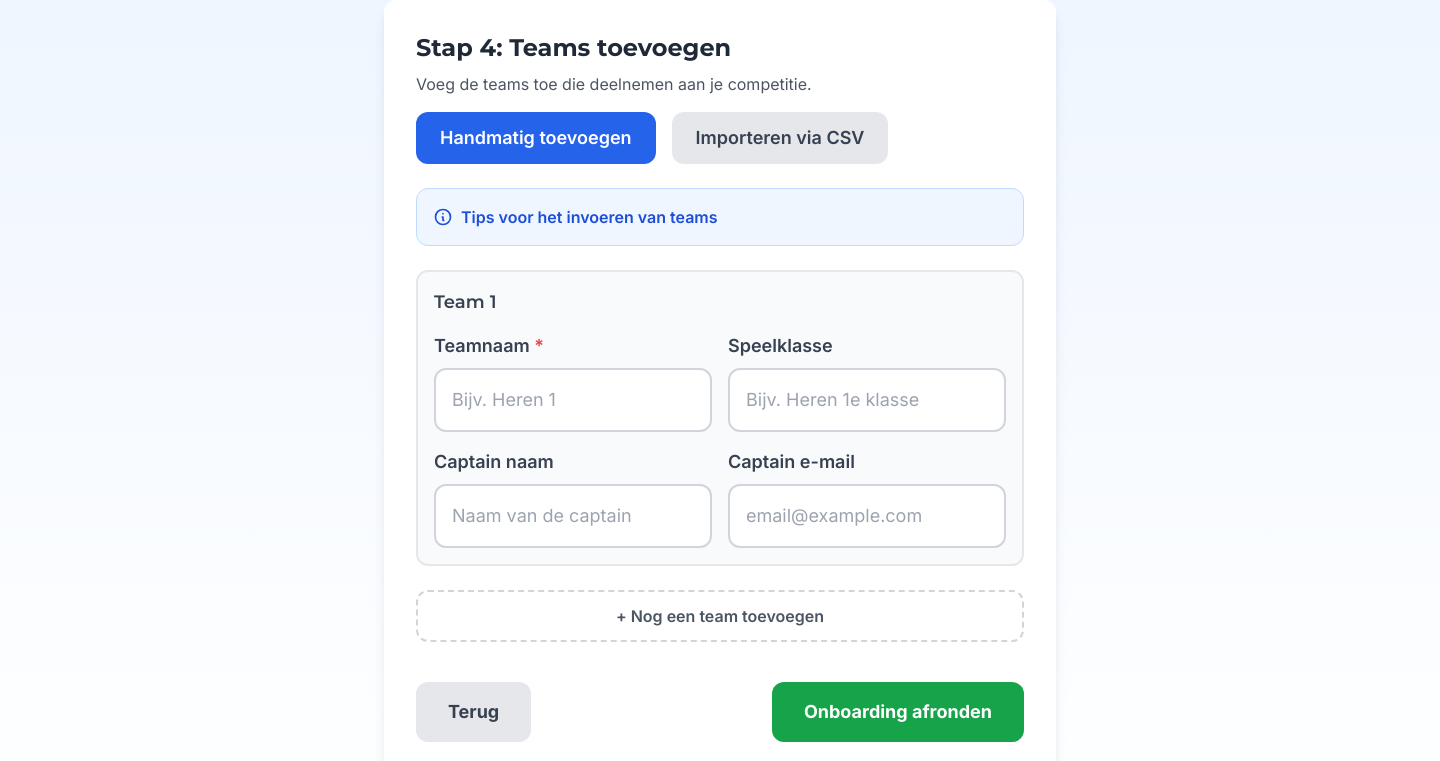
Test case: TeamsStep › Submit teams › should show generic error on unknown save failure
Type "Heren 1" into the field labelled "Teamnaam *" at [573, 400], box [434,368,712,432]
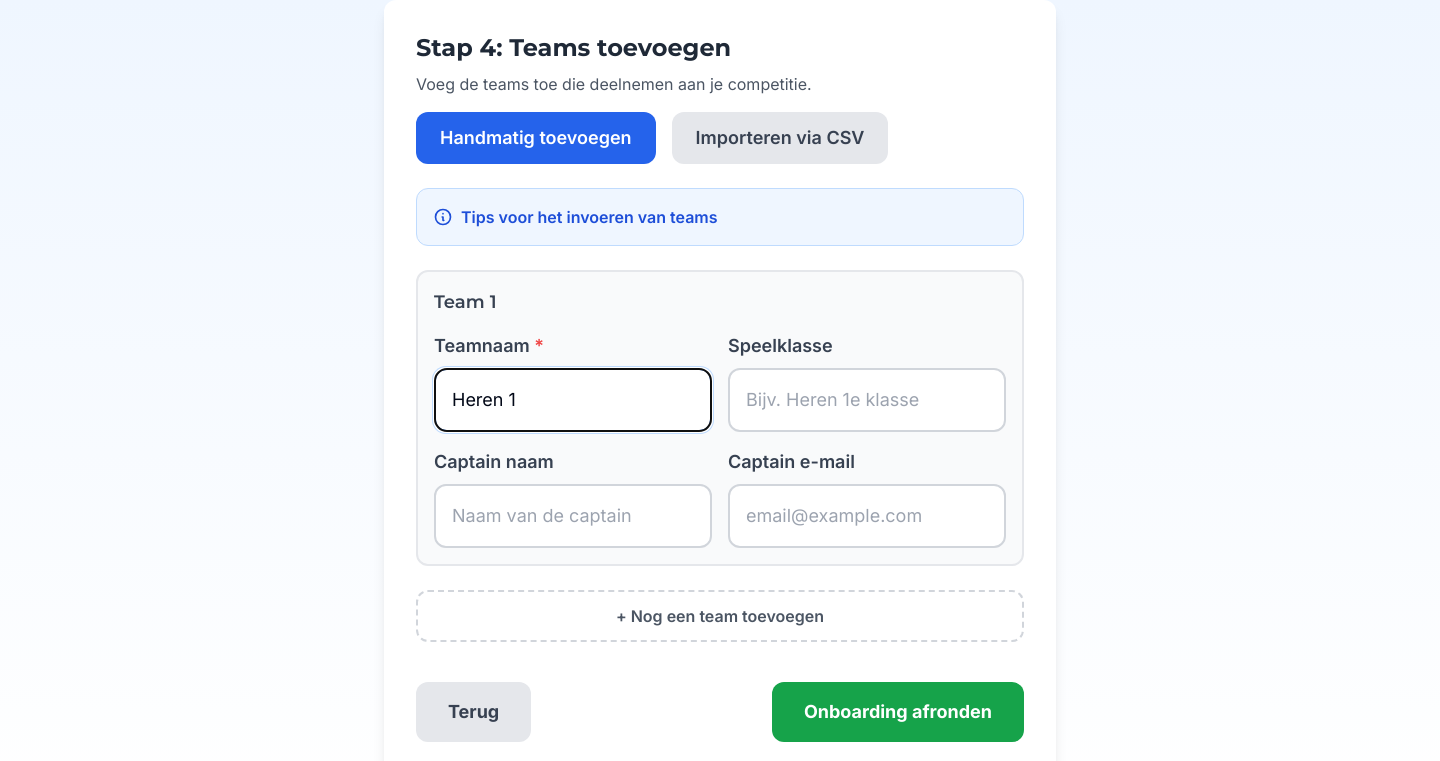
Click the button "Onboarding afronden" at [898, 712], box [772,682,1024,742]
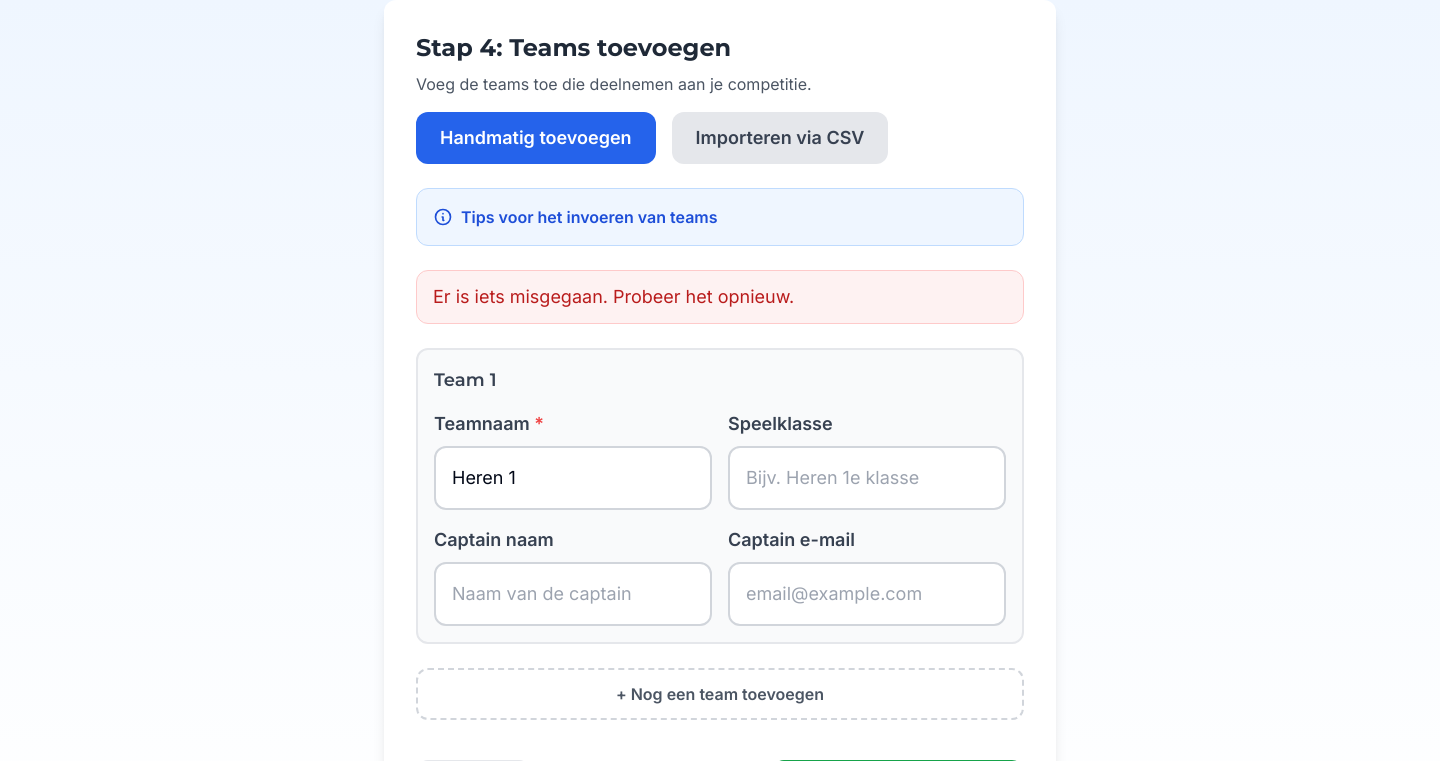
Expected: the text "Er is iets misgegaan. Probeer het opnieuw." is shown, [416,270,1024,324]
